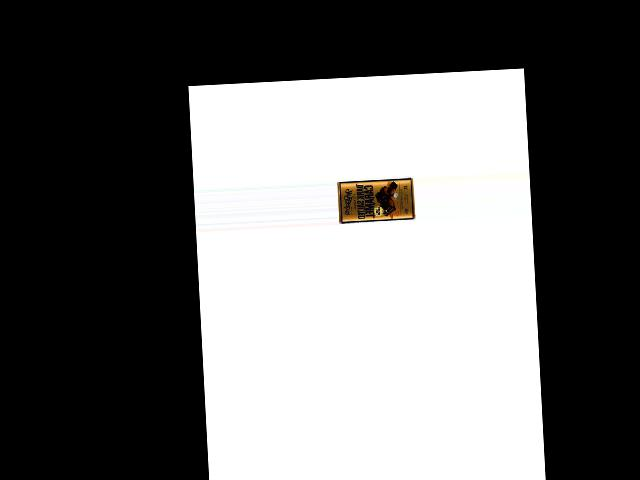chocolate: (337, 176, 417, 226)
